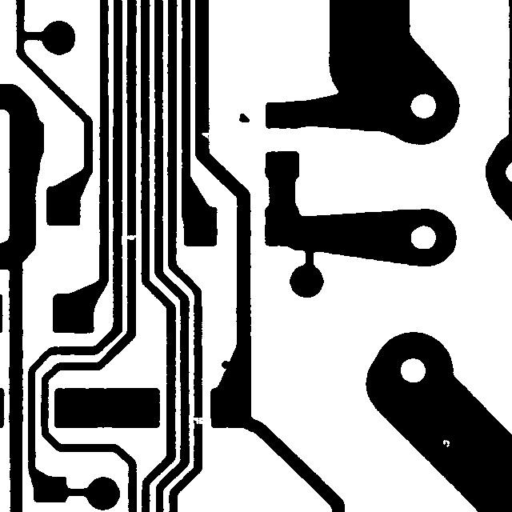copper: (231, 106, 257, 130)
mousebite: (194, 125, 218, 147)
open: (184, 410, 214, 431), (118, 227, 144, 247)
pin-hole: (435, 432, 457, 454)
spur: (214, 353, 239, 378)
